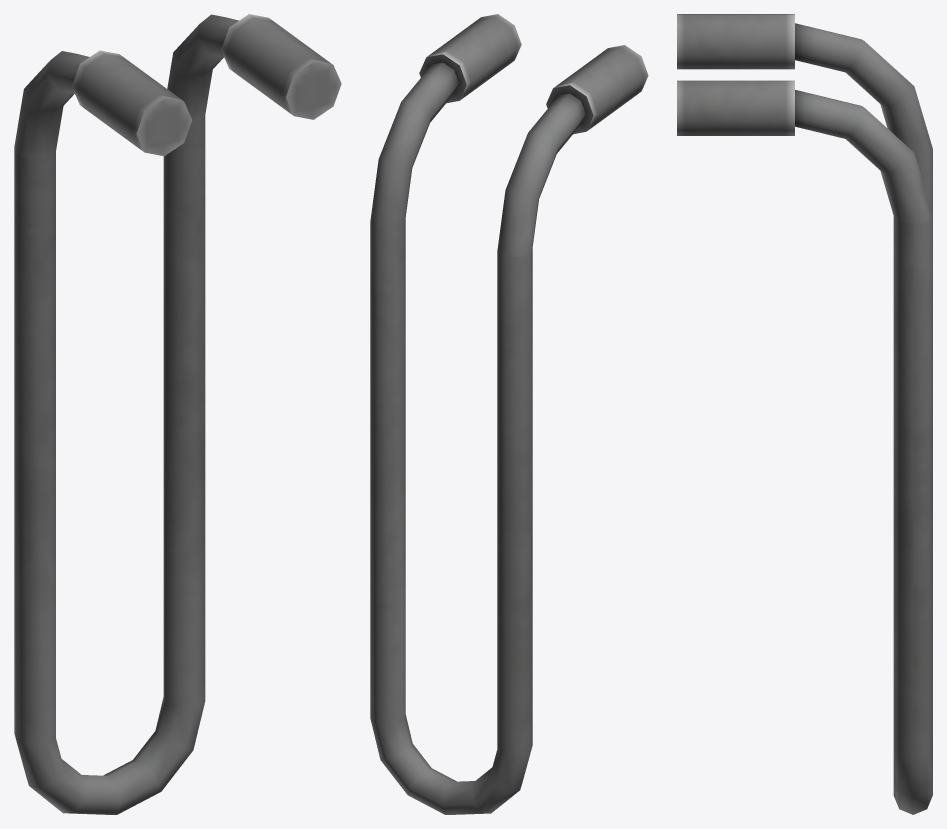
The model's file is flop.obj.
3 views of the same model, side by side, from view 1: azimuth 30°, elevation 25°; view 2: azimuth 150°, elevation 25°; view 3: azimuth 270°, elevation 25° (orthographic). The views are drawn at different scales.
Visible parts, largest first — view 1: flop; view 2: flop; view 3: flop.
Part boxes in pixels (box(x1,y1,x2,y2)): flop: box(14, 14, 341, 814); flop: box(370, 14, 648, 814); flop: box(677, 14, 932, 814).
Bounding box in the file's own units: 0.1375 × 0.5312 × 0.1625.
Materials: 1 (1 with a texture image).
